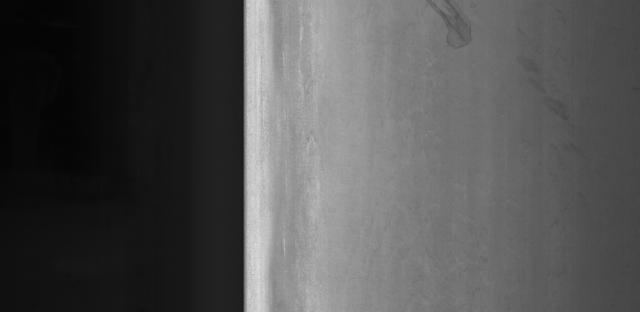water_spot: (516, 23, 590, 154), (419, 1, 486, 52)
